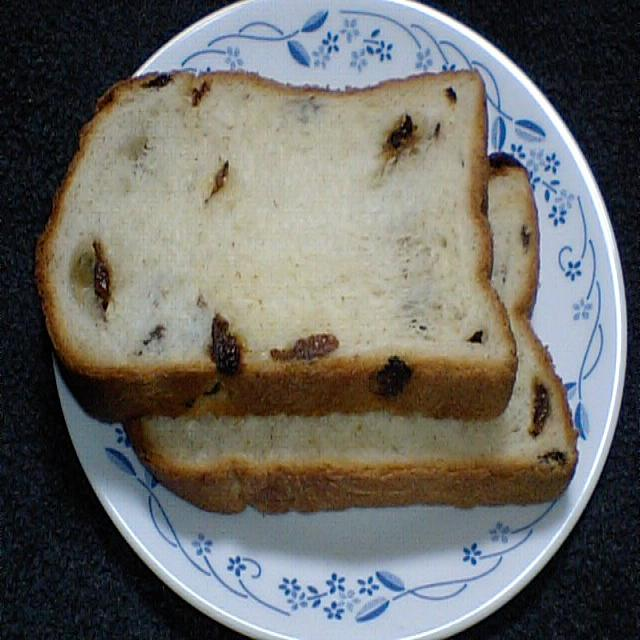面包点心: (20, 56, 620, 493)
